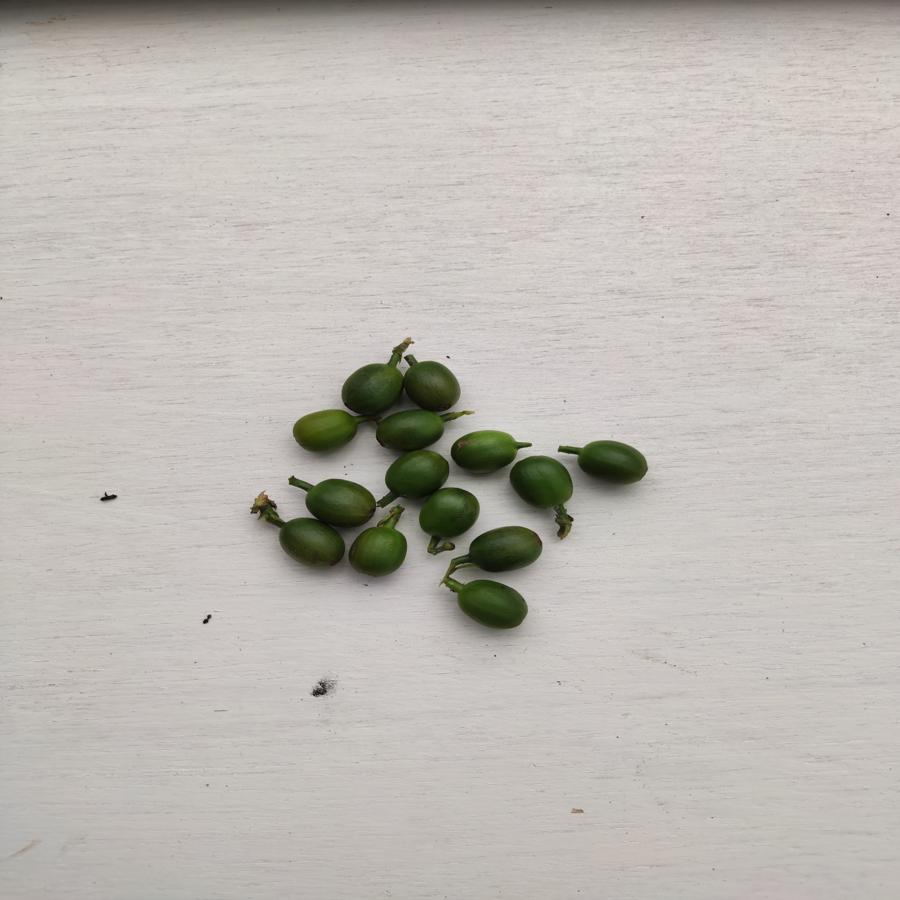Inmaduro: (275, 514, 347, 572), (455, 580, 535, 630), (575, 438, 650, 486), (470, 525, 545, 573), (512, 454, 573, 512), (452, 425, 517, 477), (403, 357, 463, 412), (289, 407, 358, 454), (339, 362, 403, 412), (304, 479, 374, 524), (419, 488, 479, 537), (382, 452, 448, 496), (351, 523, 407, 574), (377, 408, 444, 450)
